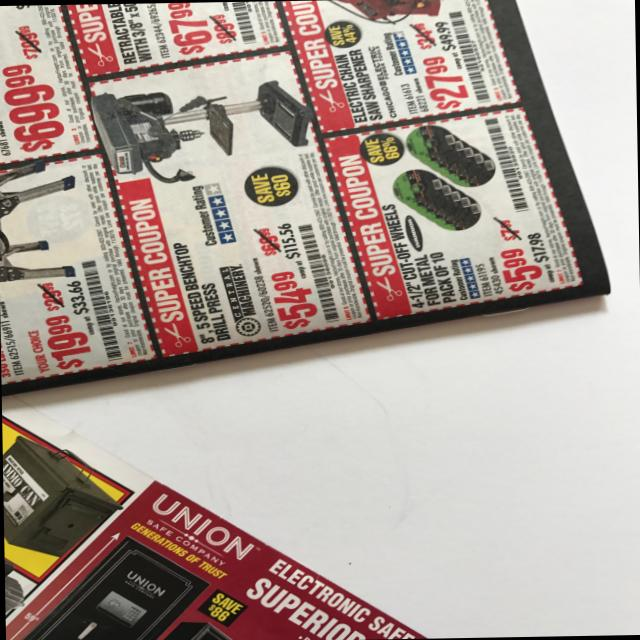paper: (0, 0, 614, 396)
